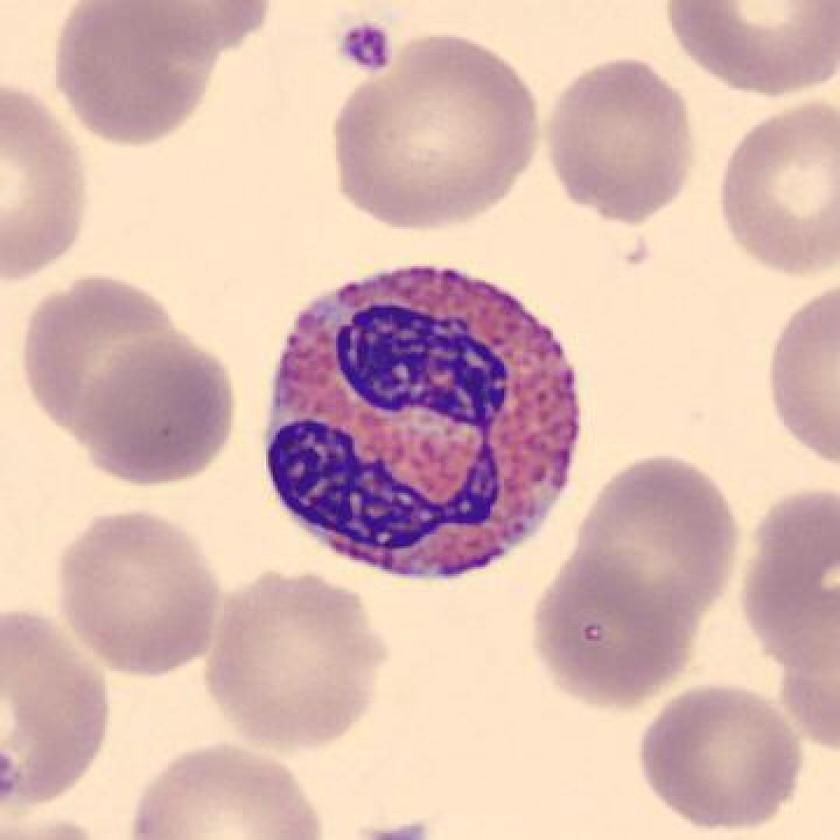eosinophil: (255, 249, 596, 594)
